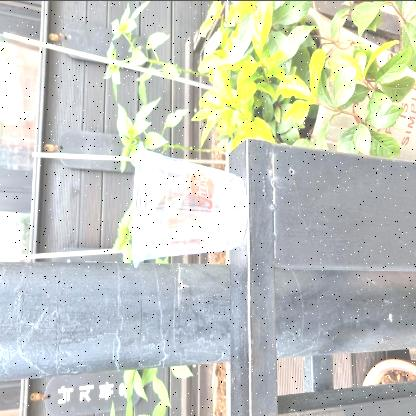Others: (129, 136, 249, 270)
